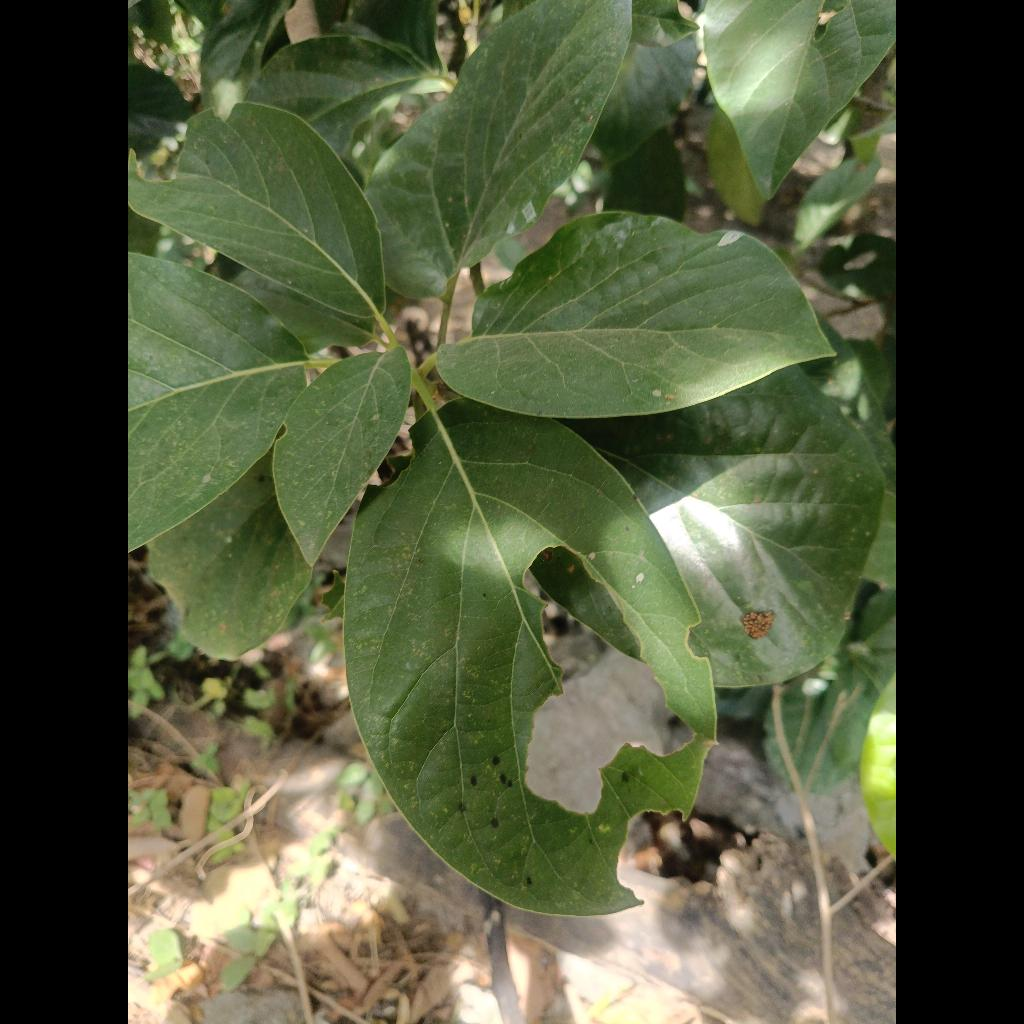Pest Infested: (344, 399, 715, 915)
